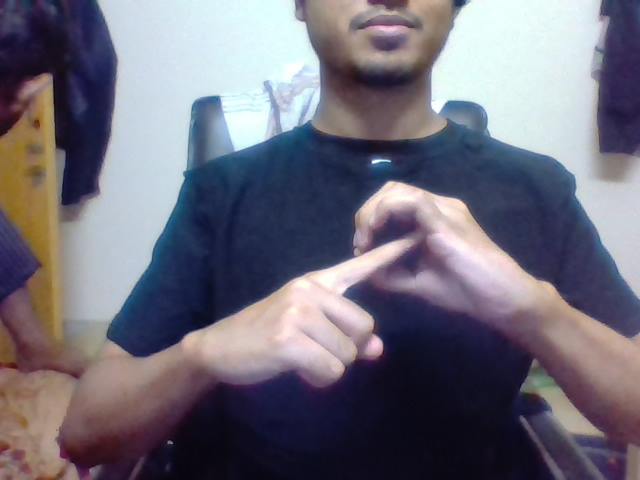Q: (363, 200, 438, 288)
